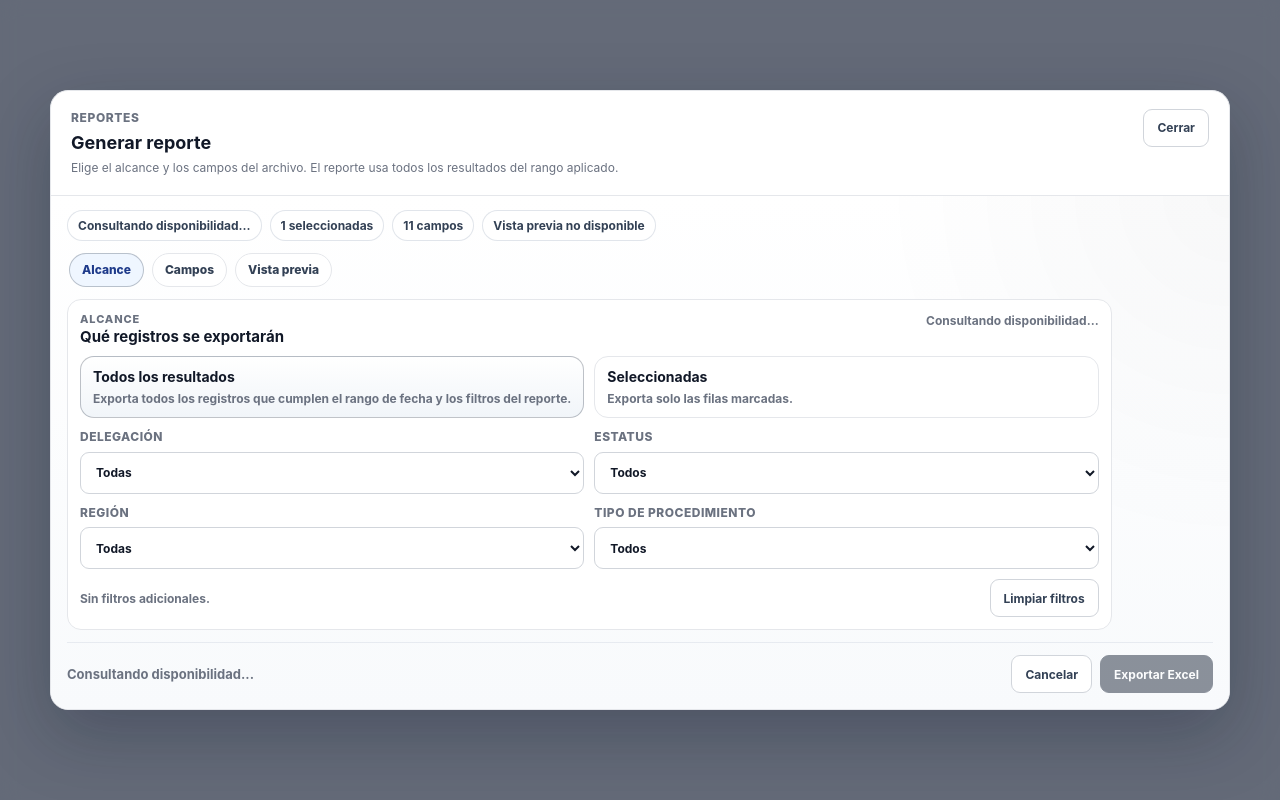
InfraccionesReportModal exportacion Excel › ignora respuestas antiguas que llegan despues de la consulta vigente
This screenshot has width=1280, height=800.
Click the button "Seleccionadas Exporta solo las filas marcadas.".
click(657, 376)  # box [594,356,1099,418]
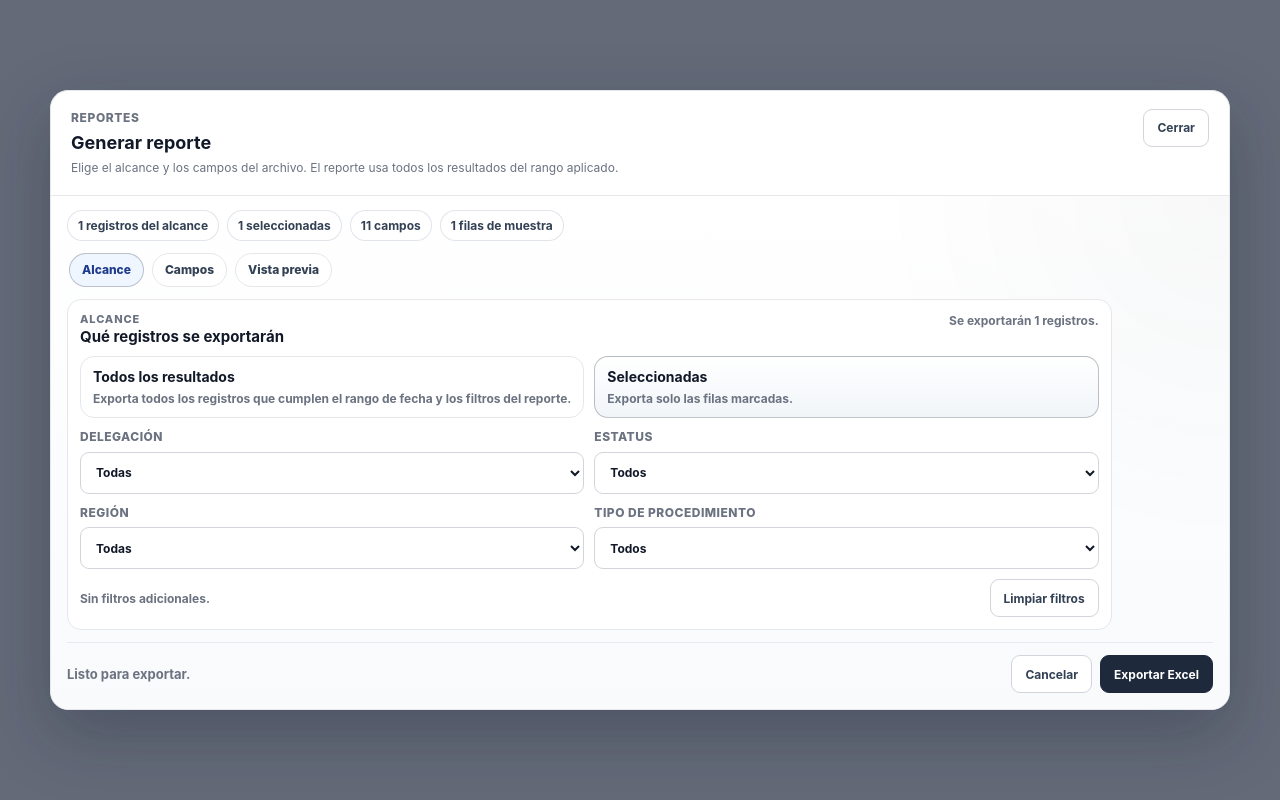
Result: the button "Exportar Excel" is enabled at [1100,655,1213,693]
